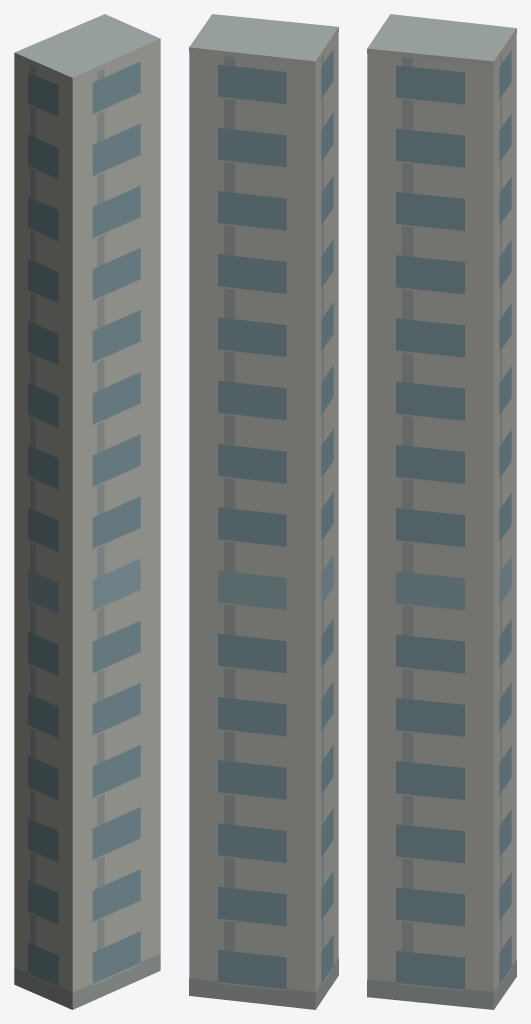
File: survey-upis-32632368.glb
The picture shows the model from 3 angles, left to right: view 1: azimuth 30°, elevation 25°; view 2: azimuth 150°, elevation 25°; view 3: azimuth 330°, elevation 25°; orthographic projection.
Parts seen in each view (by area): view 1: survey-upis-32632368.tmp; view 2: survey-upis-32632368.tmp; view 3: survey-upis-32632368.tmp.
Boxes of the visible parts, left/top/right/bottom form: survey-upis-32632368.tmp: left=14, top=14, right=160, bottom=1009; survey-upis-32632368.tmp: left=189, top=14, right=338, bottom=1009; survey-upis-32632368.tmp: left=367, top=14, right=516, bottom=1009.
Size of the model in its own units: 6.37 by 45.75 by 5.11.
